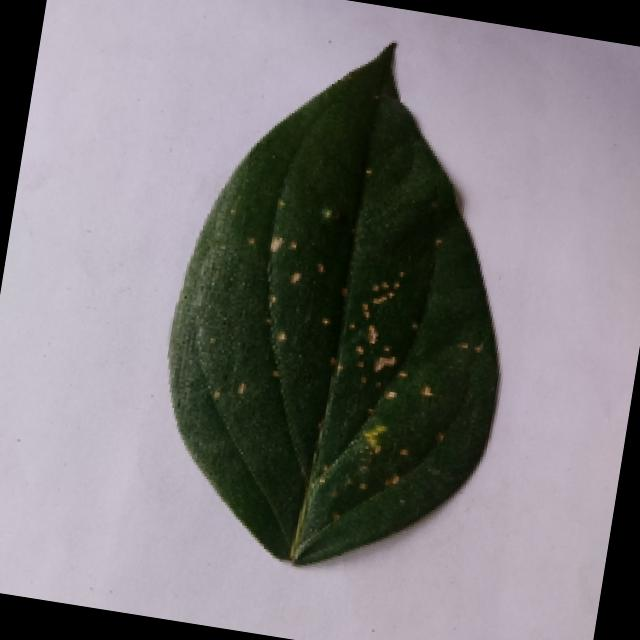pollu-disease: (123, 19, 566, 596)
